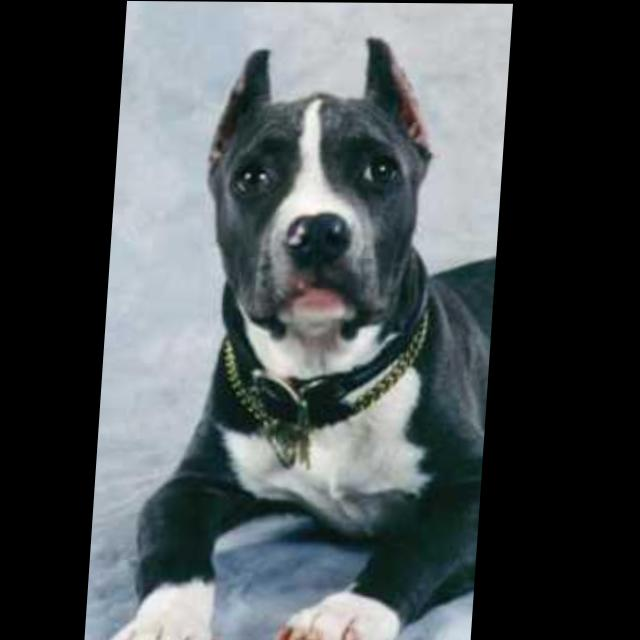staffford: (116, 34, 513, 640)
